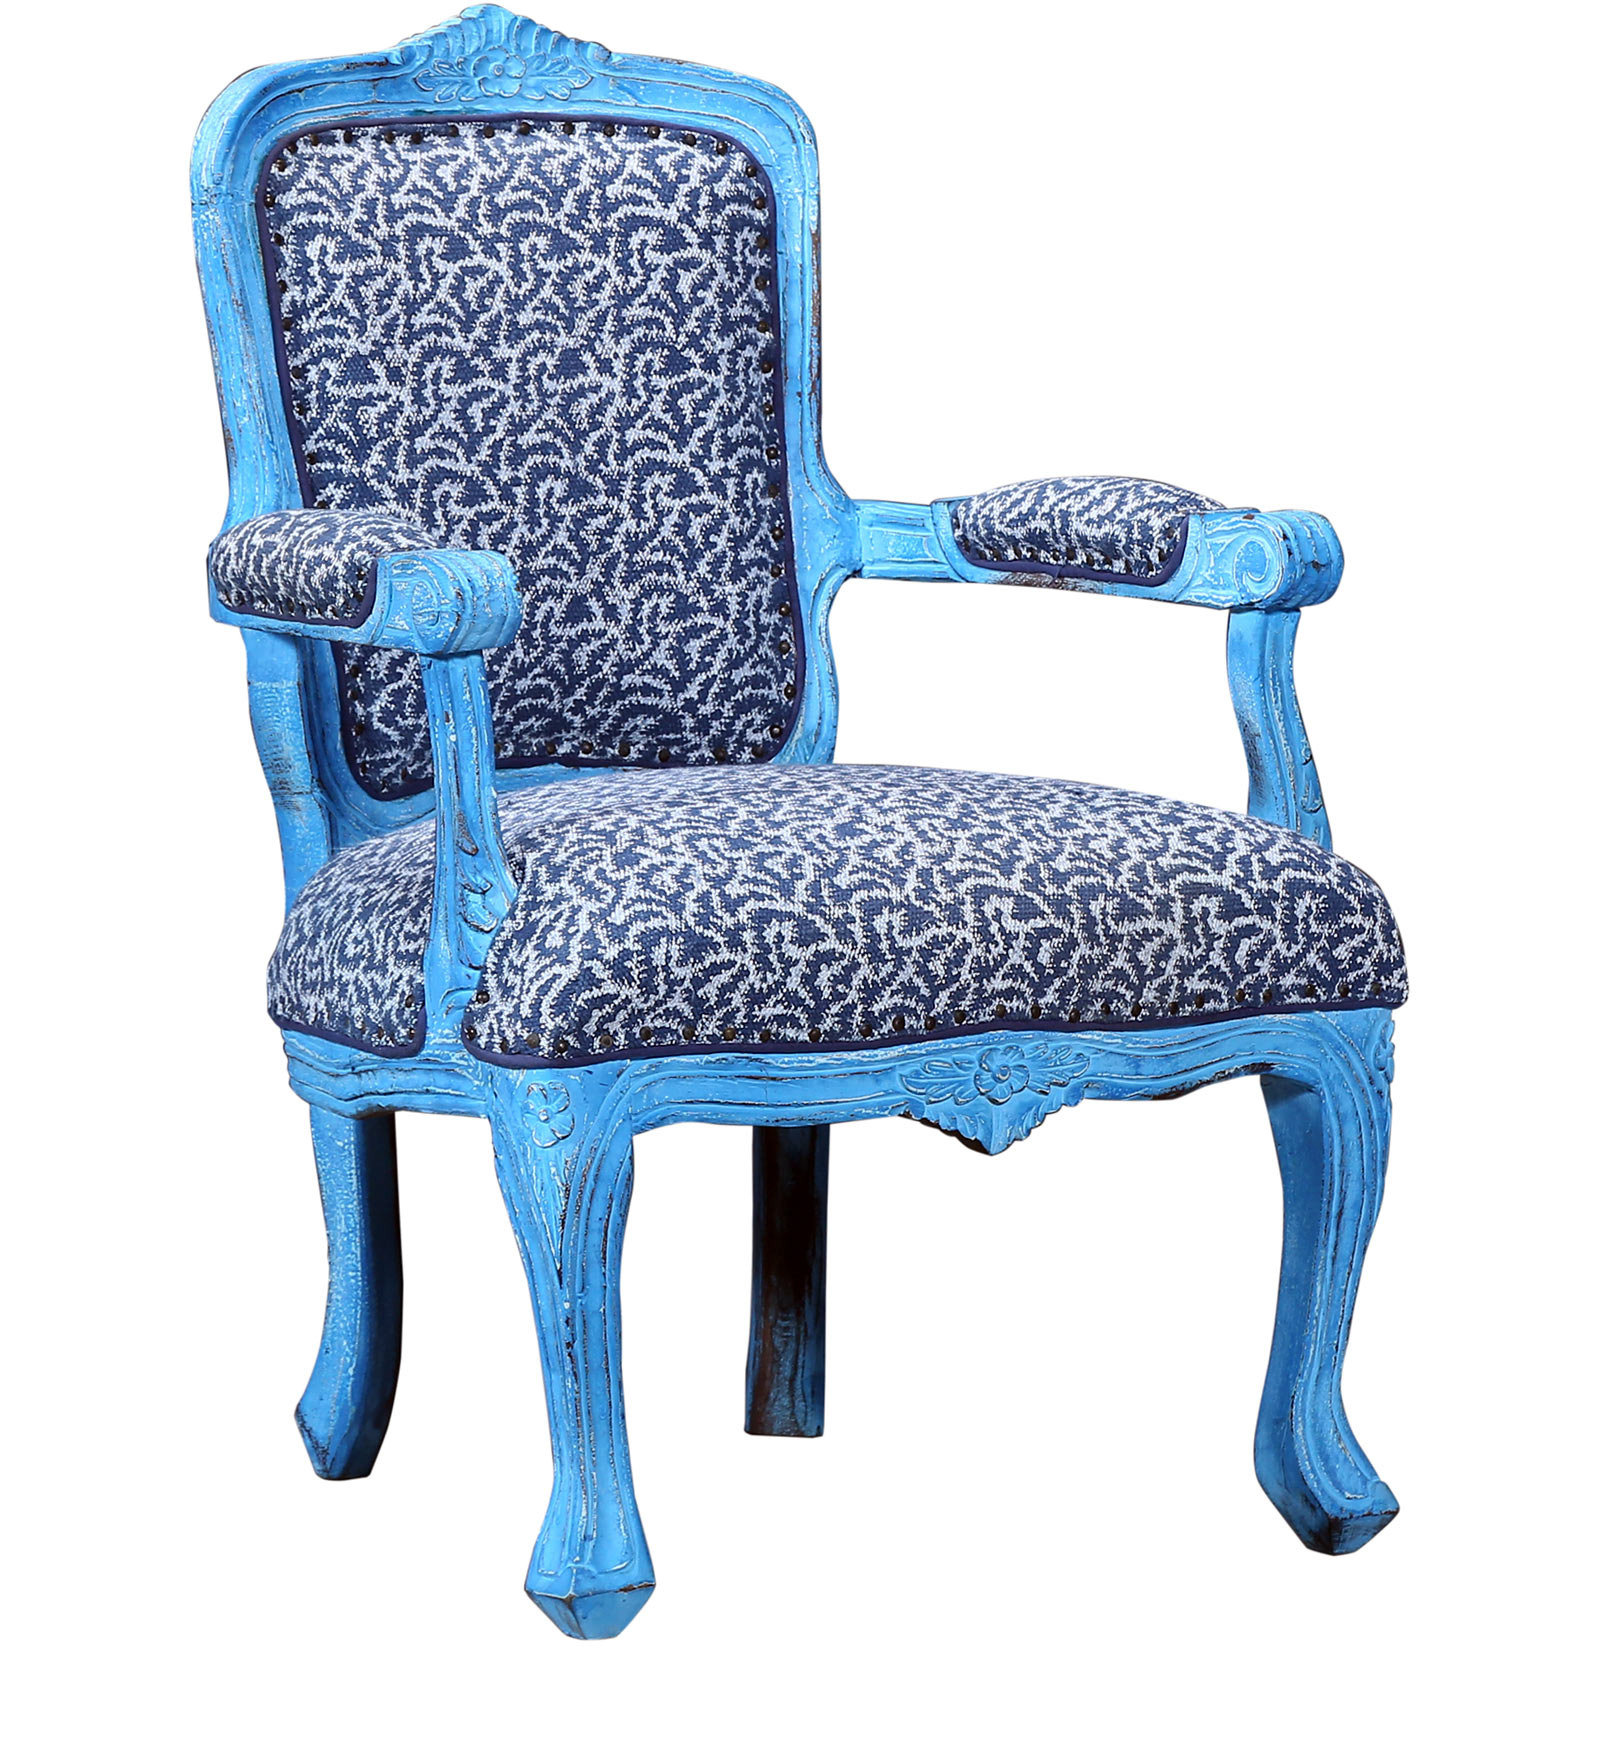Elton Arm Chair in Blue Colour by Bohemiana: (136, 8, 1533, 1657)
